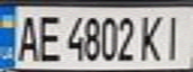0: (100, 12, 121, 63)
2: (115, 11, 139, 63)
4: (63, 11, 84, 62)
8: (81, 12, 103, 62)
A: (12, 11, 42, 63)
E: (33, 11, 63, 63)
I: (160, 10, 190, 62)
K: (136, 11, 169, 63)
